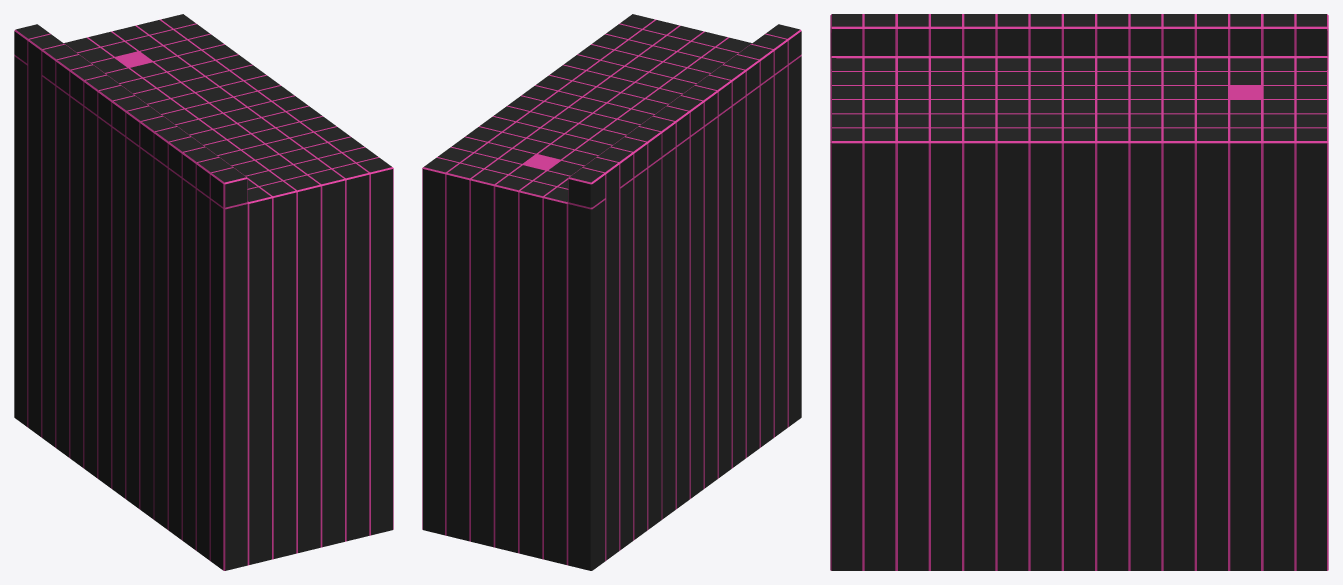
File: Platform1.fbx
3 views of the same model, side by side, from view 1: azimuth 30°, elevation 25°; view 2: azimuth 150°, elevation 25°; view 3: azimuth 270°, elevation 25° (orthographic). The views are drawn at different scales.
Parts seen in each view (by area): view 1: polySurface18; view 2: polySurface18; view 3: polySurface18.
Part boxes in pixels (left/top/right/bottom): polySurface18: left=14, top=14, right=393, bottom=570; polySurface18: left=422, top=14, right=801, bottom=570; polySurface18: left=830, top=14, right=1328, bottom=570.
Bounding box in the file's own units: 35 × 76.23 × 75.
Materials: 2 (2 with a texture image).
